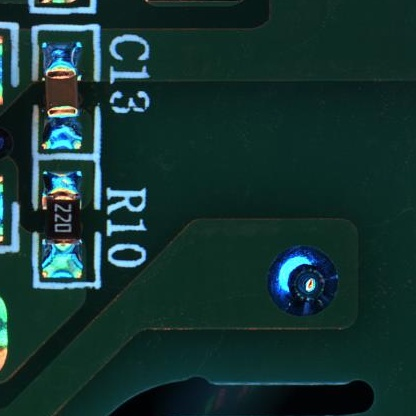spot: (266, 245, 339, 317)
